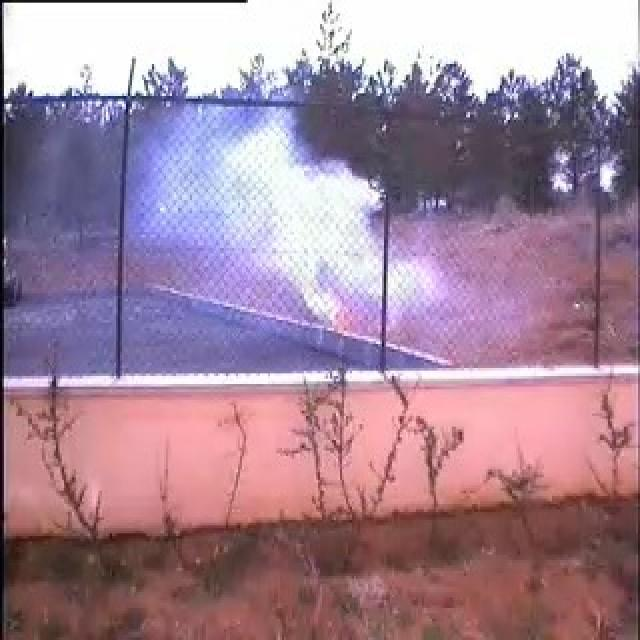smoke: (125, 101, 437, 356)
